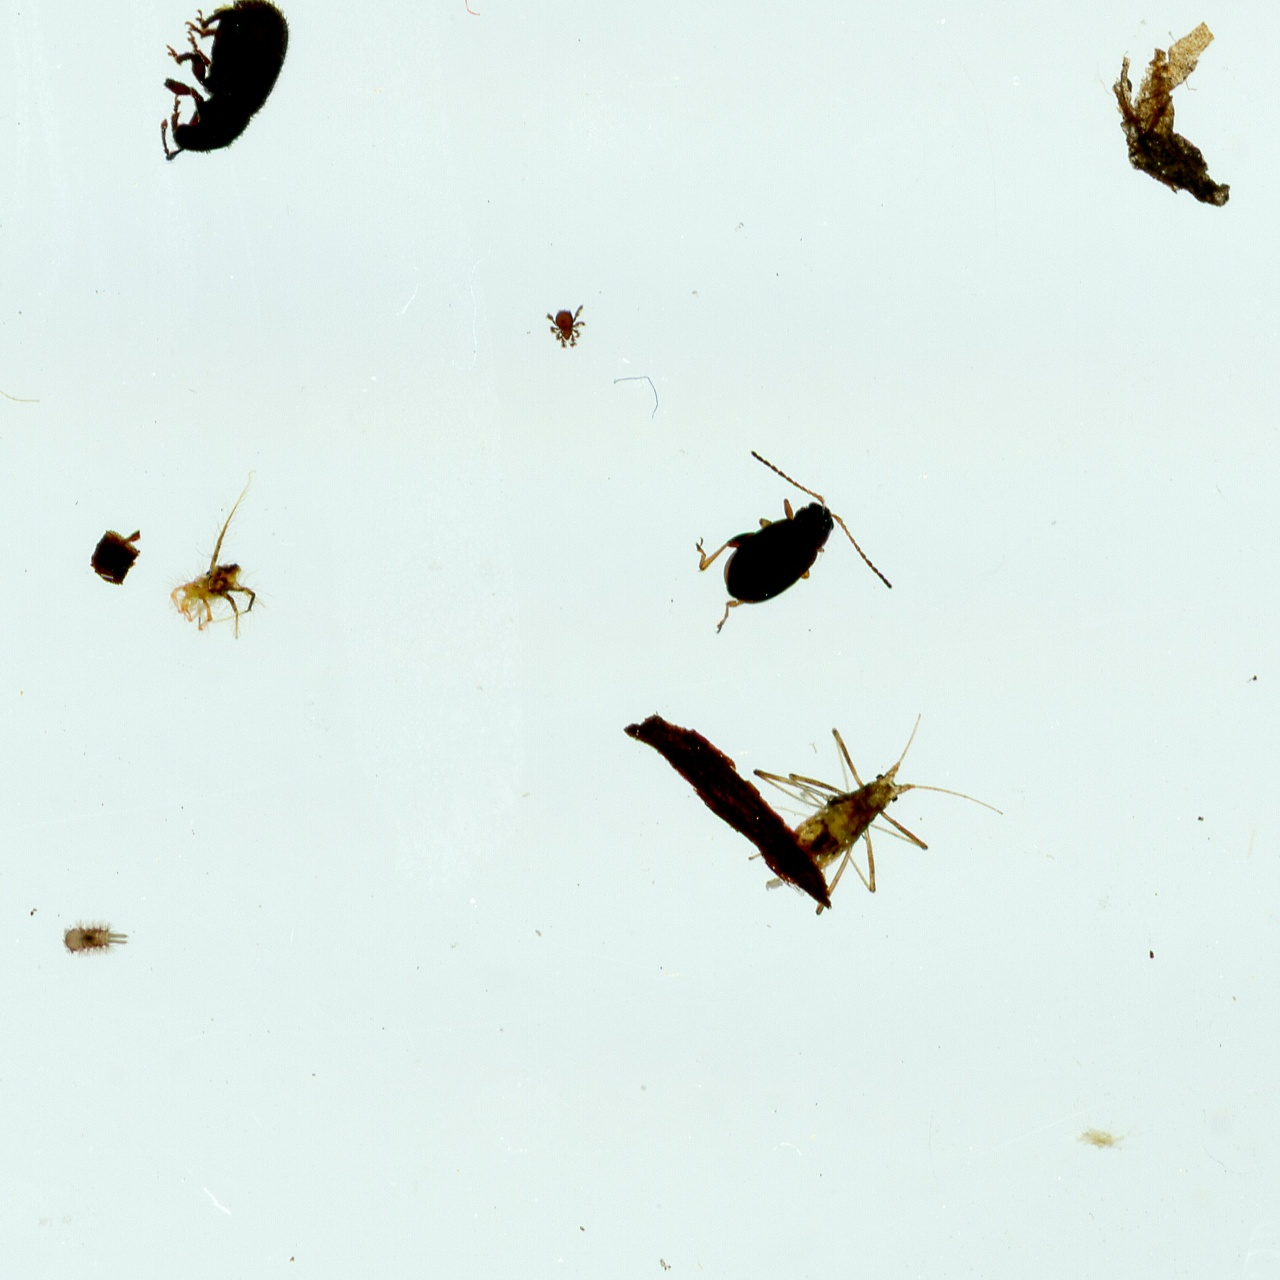arthropod: (693, 659, 1017, 959), (633, 421, 908, 699), (115, 0, 314, 198), (161, 468, 280, 647), (57, 917, 134, 962), (542, 300, 591, 353)
